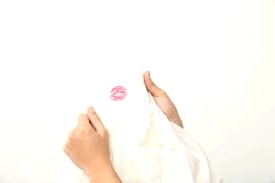lipstick: (109, 84, 132, 101)
